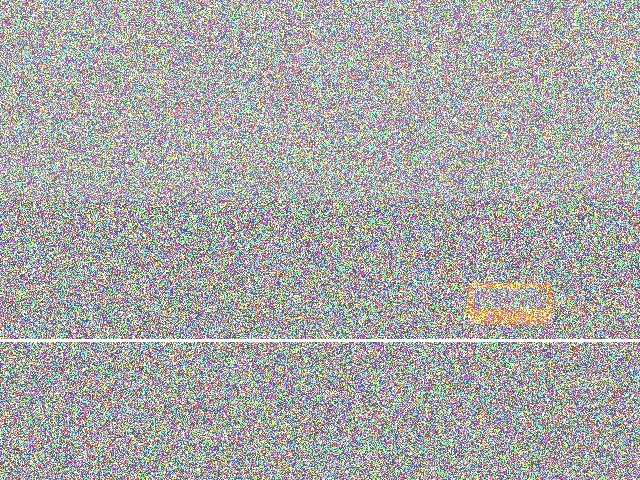motorcycle: (65, 218, 156, 350)
truck: (391, 144, 551, 277)
